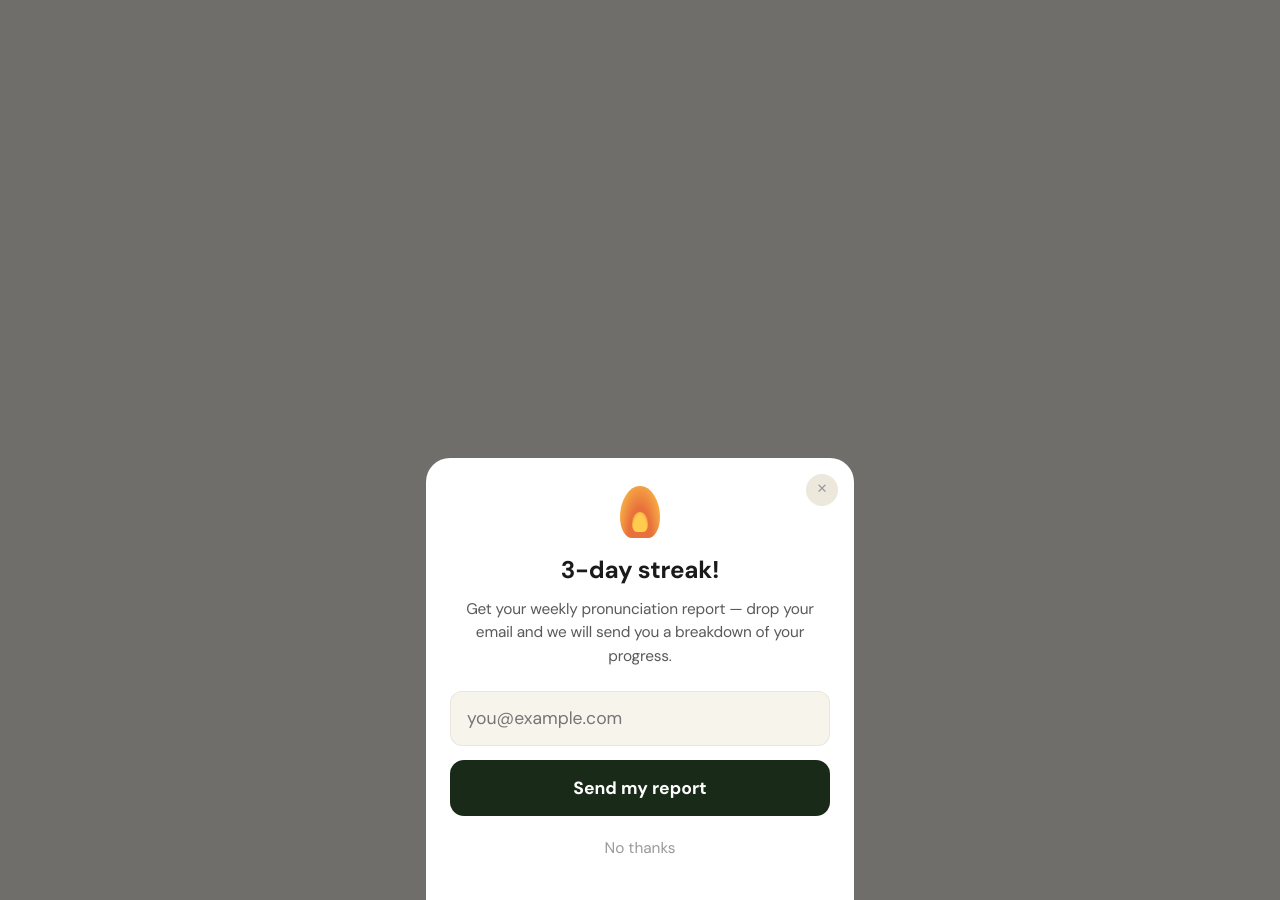
Test: EmailCaptureModal › clears the error when the user starts typing after a failed submit
The width and height of the screenshot is (1280, 900).
Click the button "Send my report": click(640, 788) [450,760,830,816]
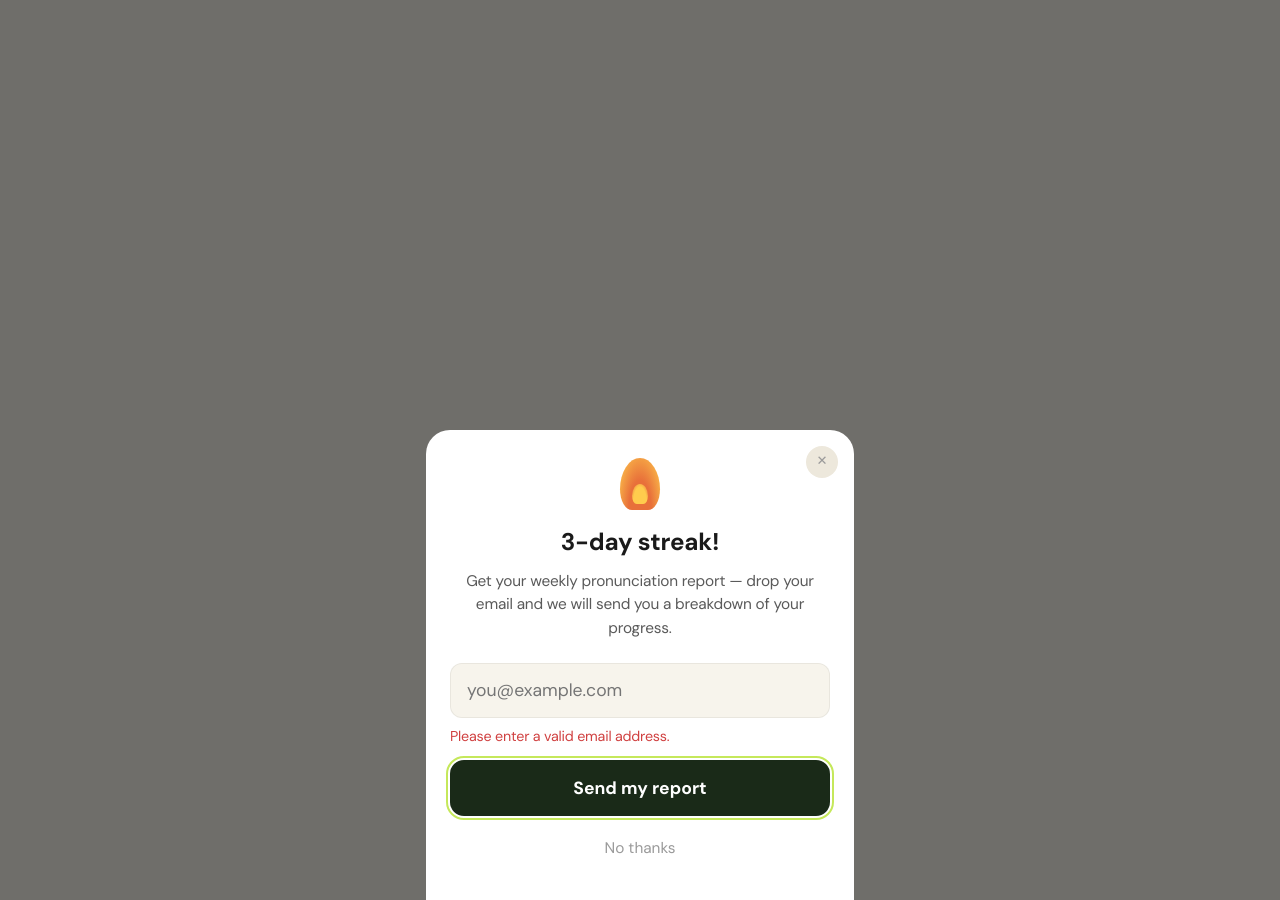
expect the message "Please enter a valid email address." is shown: met, box [450,727,669,745]
In the field named "email address": (640, 690) [450,663,830,718], type "a"
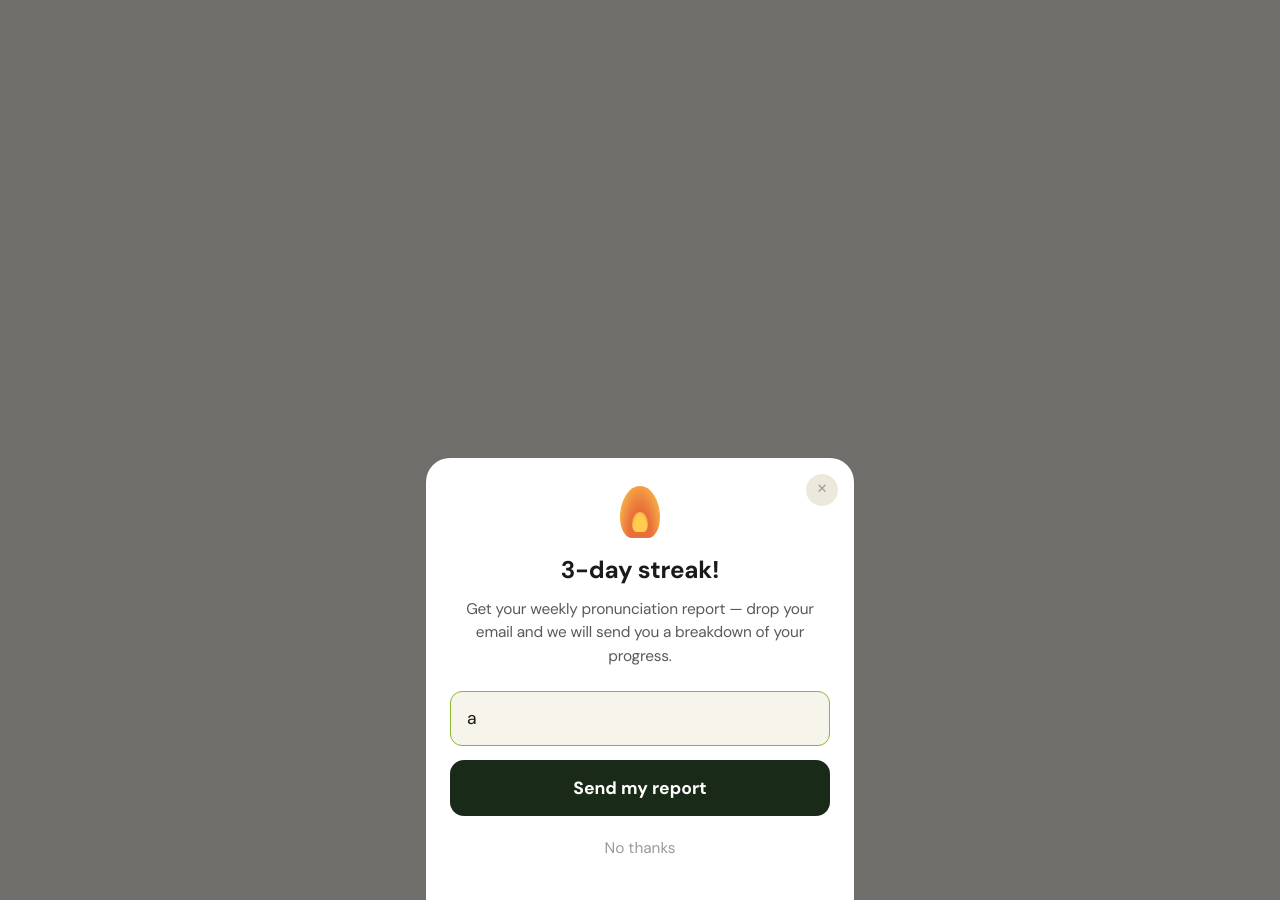
expect the message "Please enter a valid email address." is gone: met
